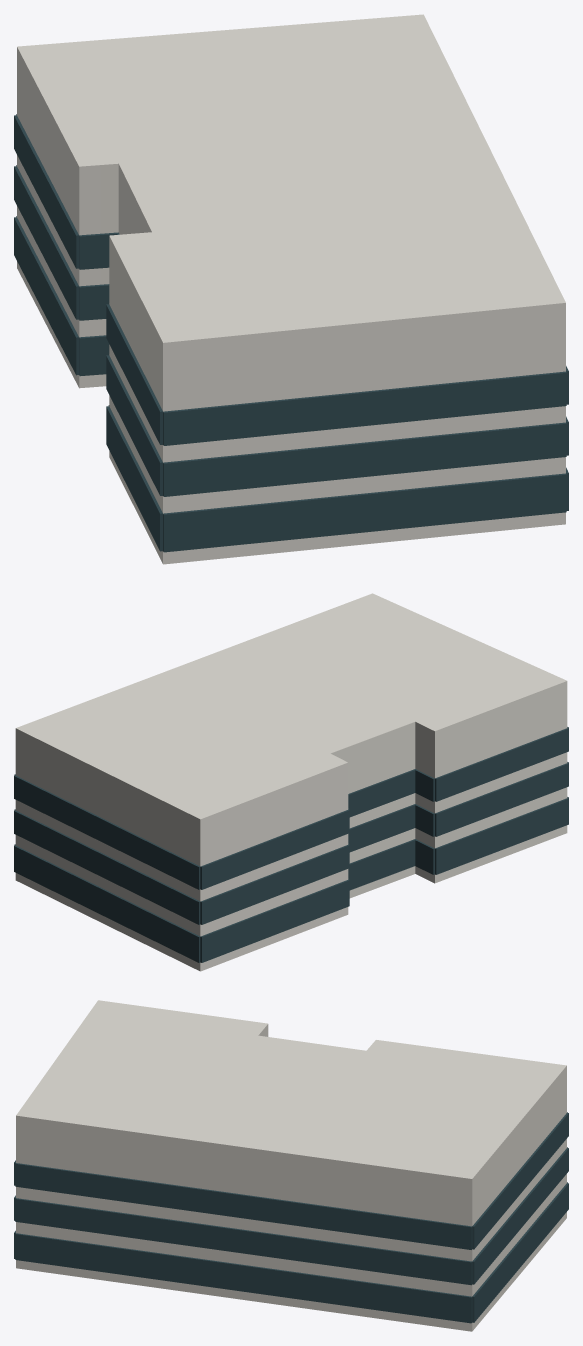
File: bgc_building_0027_lod1.glb
3 renders of one model, top to bottom at view 1: azimuth 30°, elevation 25°; view 2: azimuth 150°, elevation 25°; view 3: azimuth 270°, elevation 25°, orthographic. The views are drawn at different scales.
Visible parts, largest first — view 1: BGC_RUNTIME_001_M10_0027_Envelope, BGC_RUNTIME_M10_0027_FACADE_BANDS; view 2: BGC_RUNTIME_001_M10_0027_Envelope, BGC_RUNTIME_M10_0027_FACADE_BANDS; view 3: BGC_RUNTIME_001_M10_0027_Envelope, BGC_RUNTIME_M10_0027_FACADE_BANDS.
Boxes of the visible parts, <box> form: BGC_RUNTIME_001_M10_0027_Envelope: <box>17,14,565,564</box>; BGC_RUNTIME_M10_0027_FACADE_BANDS: <box>14,114,568,552</box>; BGC_RUNTIME_001_M10_0027_Envelope: <box>15,593,567,971</box>; BGC_RUNTIME_M10_0027_FACADE_BANDS: <box>14,727,568,962</box>; BGC_RUNTIME_001_M10_0027_Envelope: <box>16,1000,566,1331</box>; BGC_RUNTIME_M10_0027_FACADE_BANDS: <box>14,1112,568,1323</box>.
Bounding box in the file's own units: 32.46 × 12.8 × 42.17.
